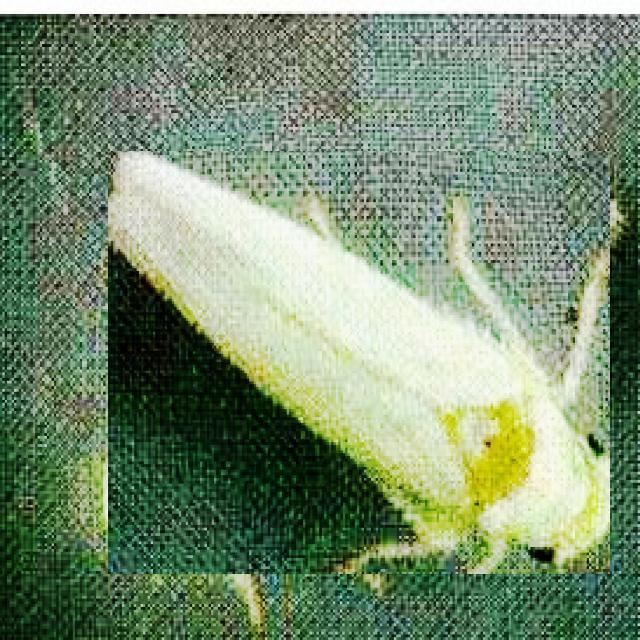green-leafhopper: (108, 152, 610, 576)
